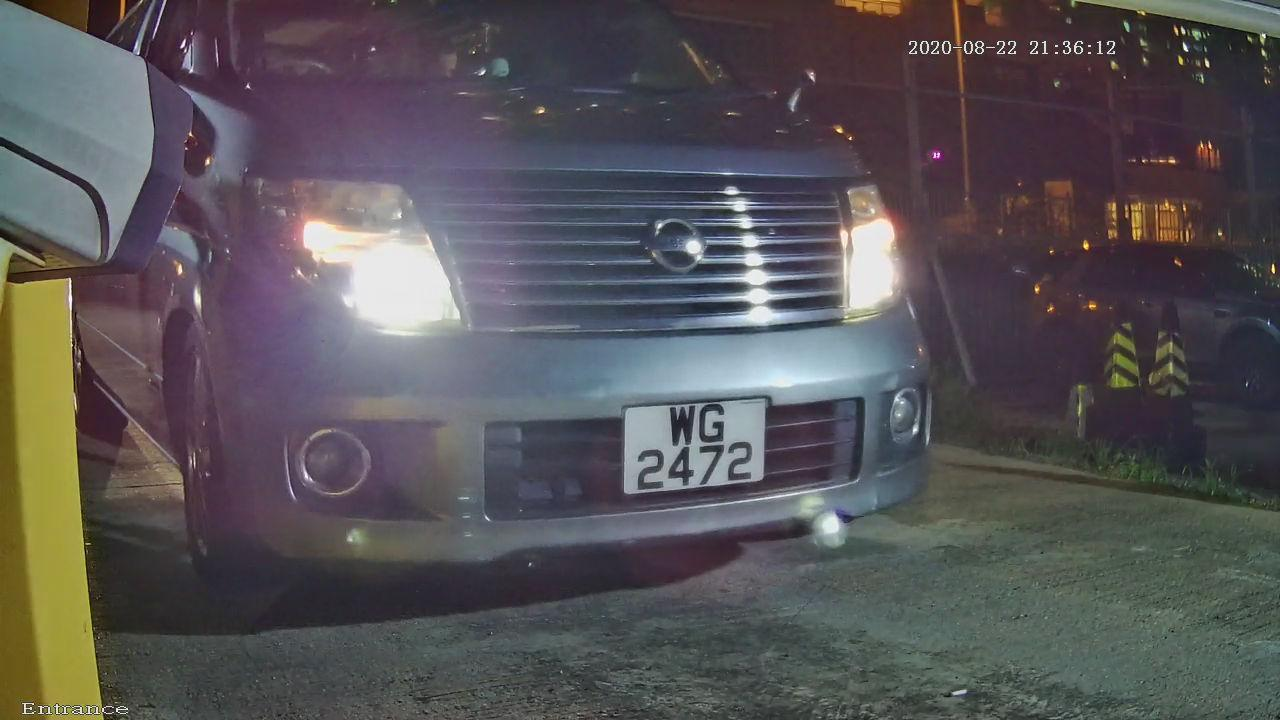Car: (41, 13, 978, 643)
License Plate: (600, 389, 783, 508)
